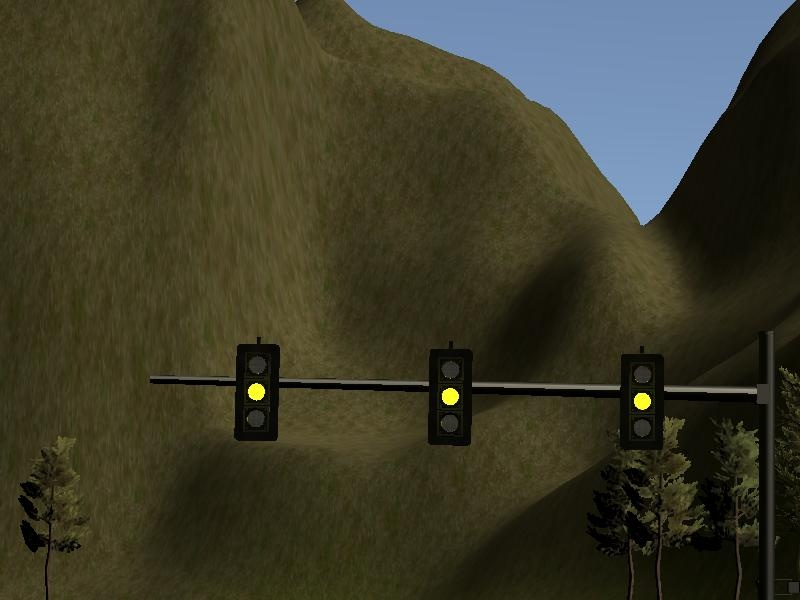yellow: (224, 333, 288, 447), (420, 336, 479, 453), (609, 345, 671, 452)
